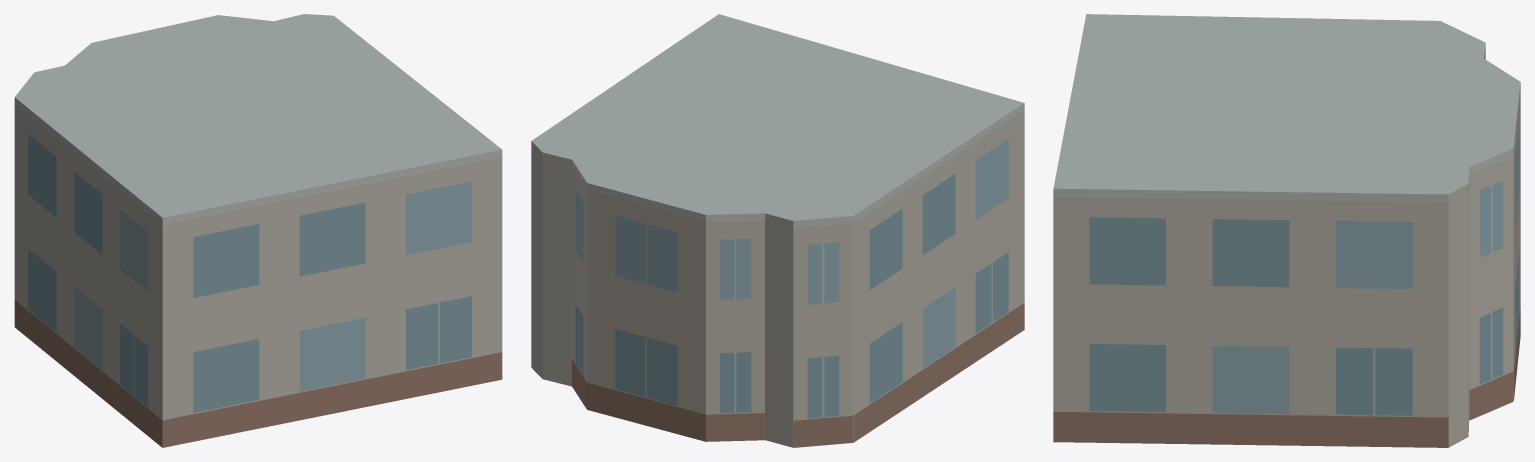
The model's file is survey-upis-32630331.glb.
The picture shows the model from 3 angles, left to right: view 1: azimuth 30°, elevation 25°; view 2: azimuth 150°, elevation 25°; view 3: azimuth 270°, elevation 25°; orthographic projection. The views are drawn at different scales.
Visible parts, largest first — view 1: survey-upis-32630331.tmp; view 2: survey-upis-32630331.tmp; view 3: survey-upis-32630331.tmp.
Part boxes in pixels (x1,y1,x2,y2): survey-upis-32630331.tmp: (14, 14, 502, 447); survey-upis-32630331.tmp: (531, 14, 1024, 447); survey-upis-32630331.tmp: (1053, 14, 1520, 447).
Bounding box in the file's own units: 11.92 × 7.8 × 13.04.
